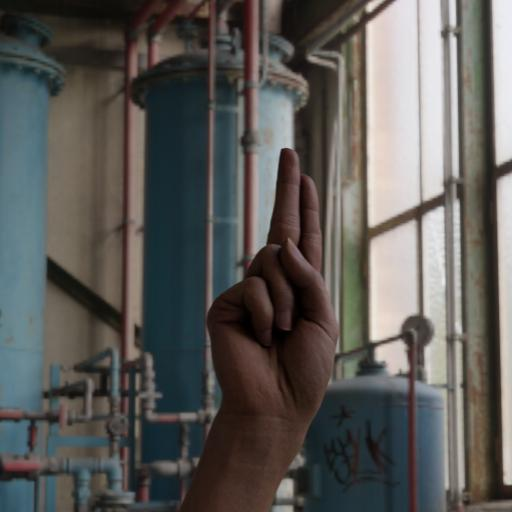U: (198, 139, 350, 430)
